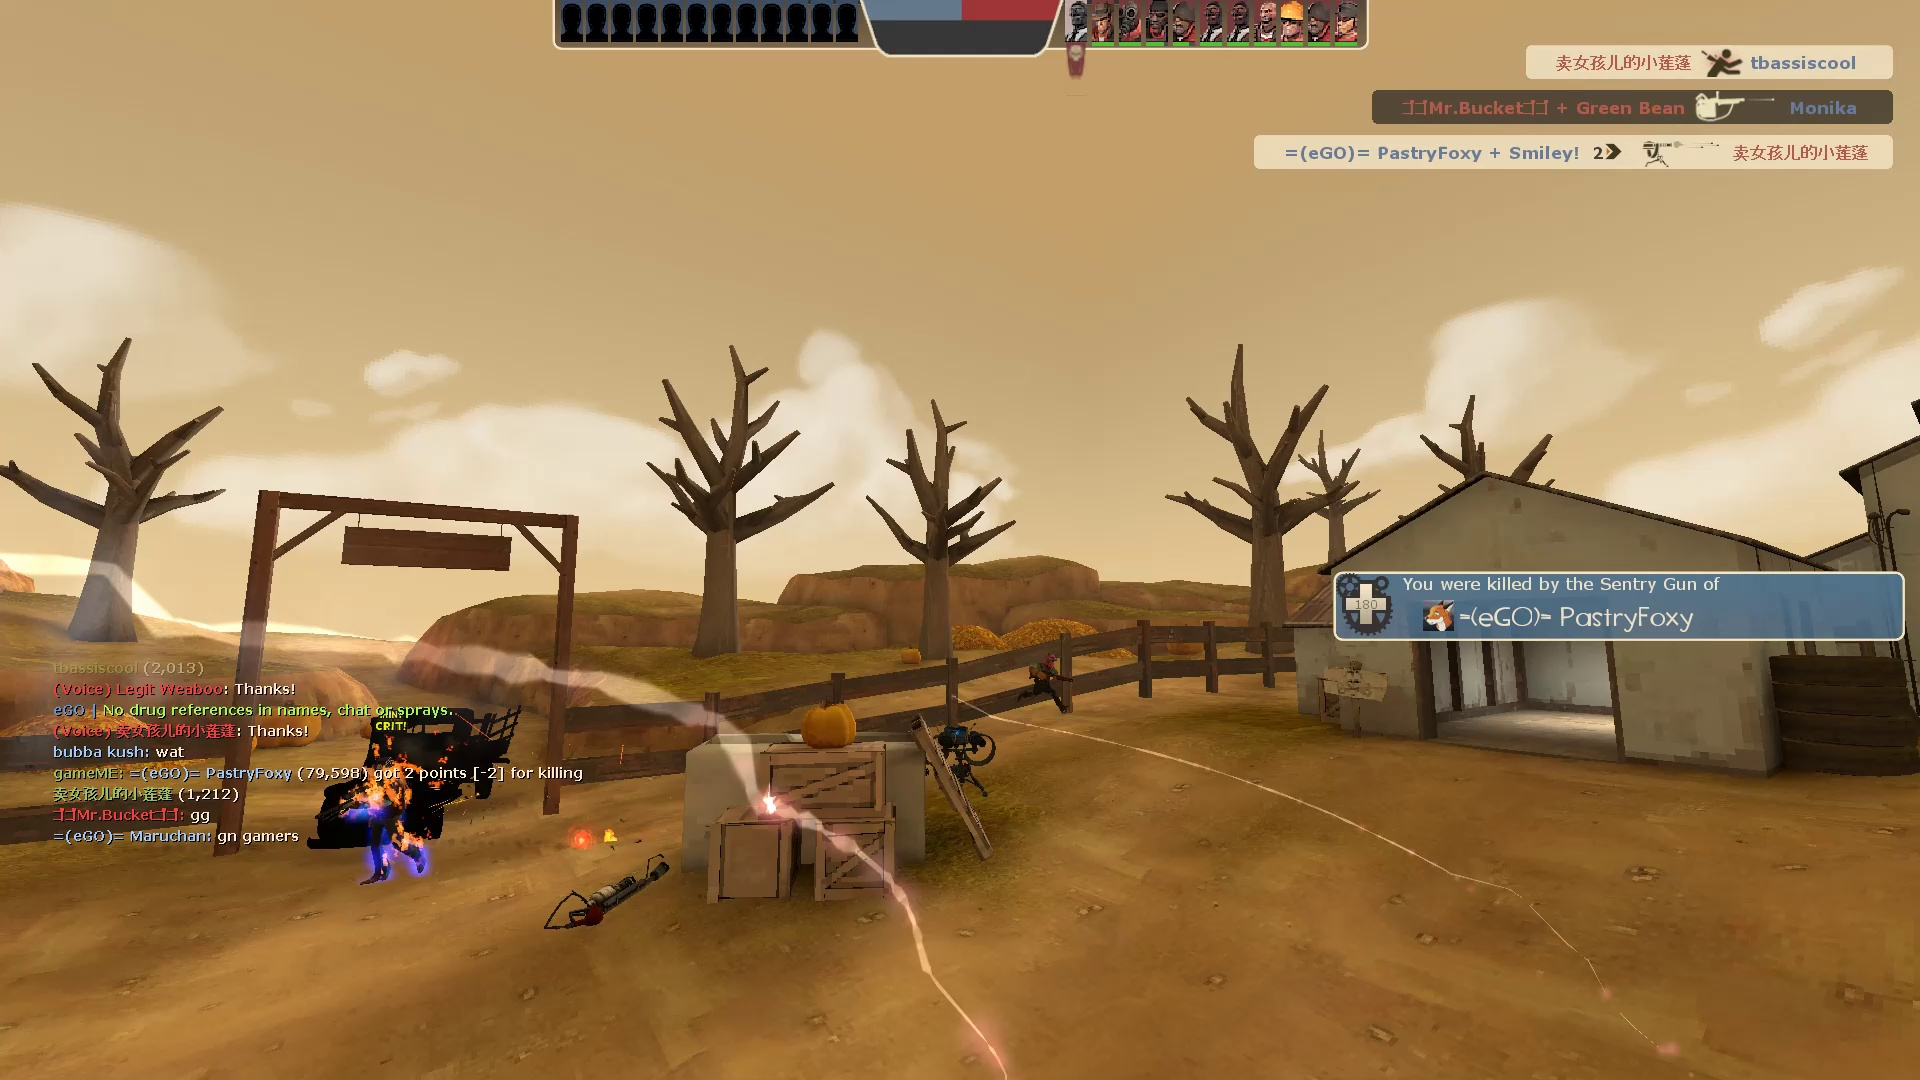blu_engineer: (1014, 650, 1079, 720)
blu_sentry_2: (918, 713, 1004, 804)
blu_sniper: (319, 738, 434, 891)
